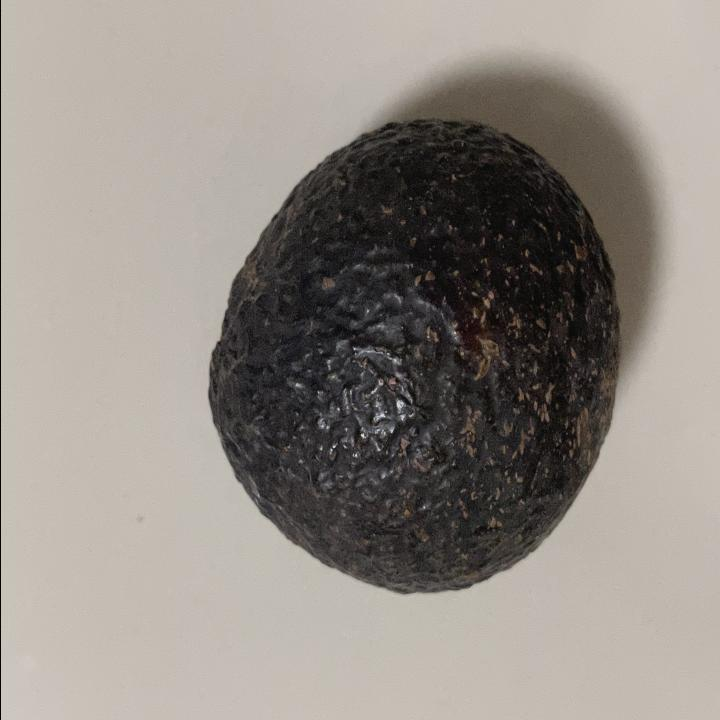Level2: (200, 107, 625, 601)
